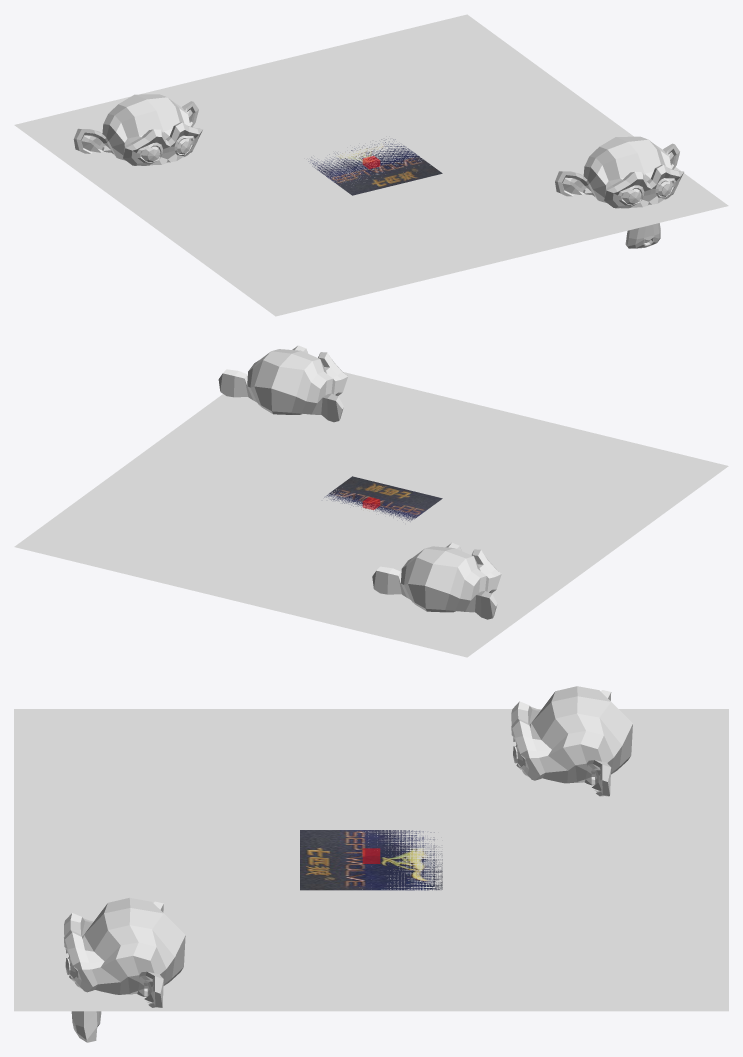
Rendered from testaaaaa.glb.
3 renders of one model, top to bottom at view 1: azimuth 30°, elevation 25°; view 2: azimuth 150°, elevation 25°; view 3: azimuth 270°, elevation 25°, orthographic. The views are drawn at different scales.
Parts seen in each view (by area): view 1: object 2, 猴头 (×2), 平面; view 2: object 2, 猴头 (×2), 平面; view 3: object 2, 猴头 (×2), 平面.
Boxes of the visible parts, x1,y1,x2,y2 form: object 2: (14,14,728,316); 猴头 (×2): (73,94,683,248); 平面: (308,139,442,195); object 2: (14,372,728,657); 猴头 (×2): (218,345,501,619); 平面: (324,476,442,521); object 2: (14,709,728,1011); 猴头 (×2): (64,686,632,1042); 平面: (300,830,442,890).
Size of the model in its own units: 1008 by 197 by 1000.
Materials: 5 (1 with a texture image).
